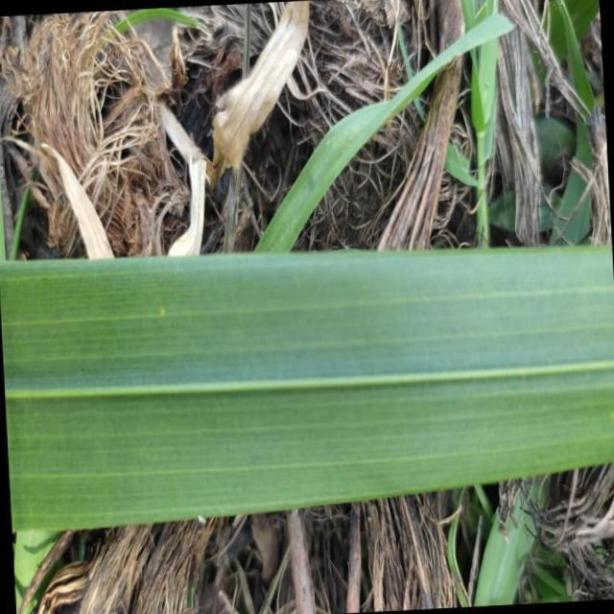Healthy: (0, 254, 614, 531)
